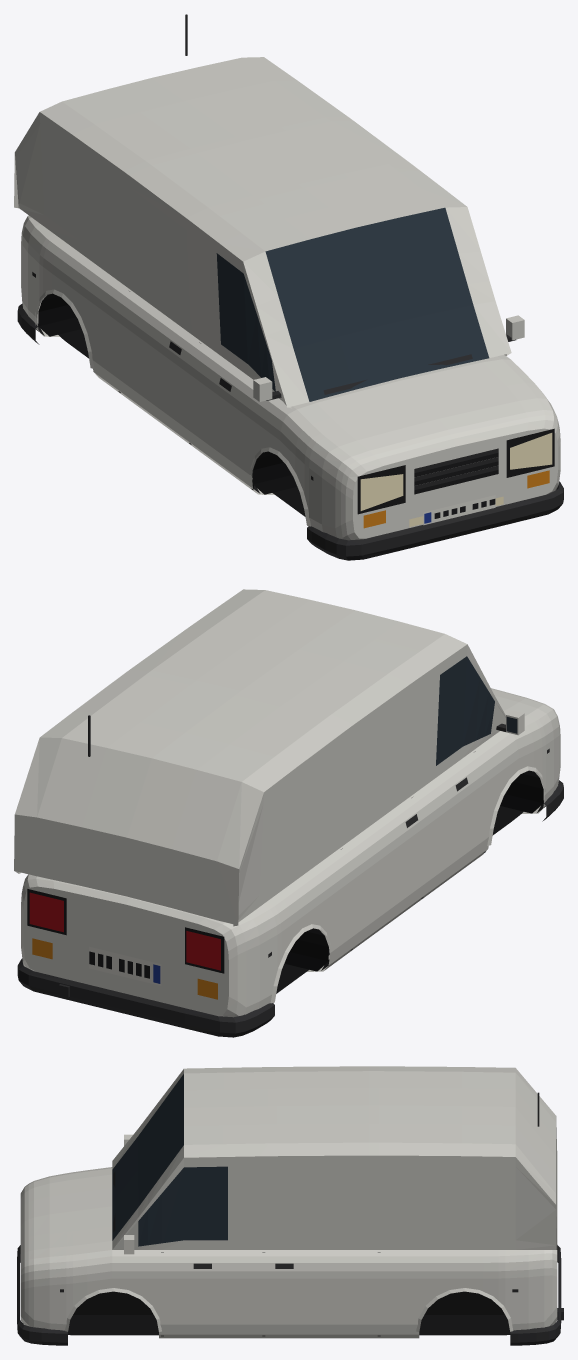
Rendered from tordo-faena.glb.
3 renders of one model, top to bottom at view 1: azimuth 30°, elevation 25°; view 2: azimuth 150°, elevation 25°; view 3: azimuth 270°, elevation 25°, orthographic. The views are drawn at different scales.
Parts seen in each view (by area): view 1: LOD0, door_RR, door_FR; view 2: LOD0, door_RR, door_FR; view 3: LOD0, door_RL, door_FL.
Part boxes in pixels (bbox=[...]): LOD0: bbox=[14, 14, 563, 560]; door_RR: bbox=[116, 171, 196, 440]; door_FR: bbox=[188, 226, 261, 486]; LOD0: bbox=[14, 589, 563, 1037]; door_RR: bbox=[342, 680, 424, 947]; door_FR: bbox=[416, 644, 487, 894]; LOD0: bbox=[17, 1066, 563, 1345]; door_RL: bbox=[265, 1155, 378, 1334]; door_FL: bbox=[162, 1156, 262, 1334].
Size of what is drawn, in the model's own units: 1.91 by 1.91 by 4.21.
